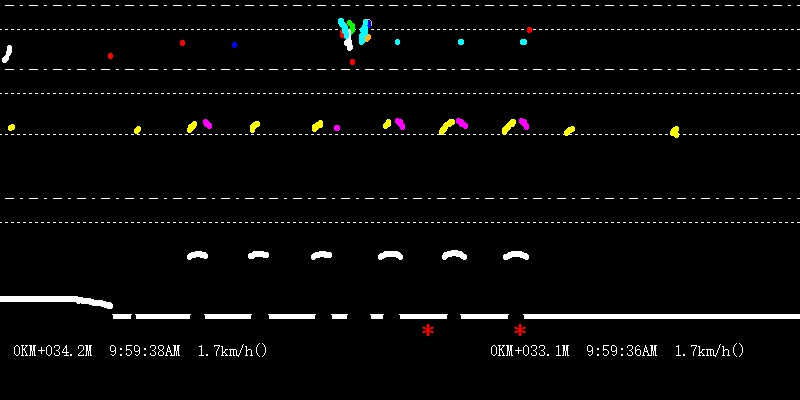J: (332, 4, 376, 64)
face_1: (525, 22, 535, 36)
star: (512, 322, 529, 340), (419, 322, 438, 337)
